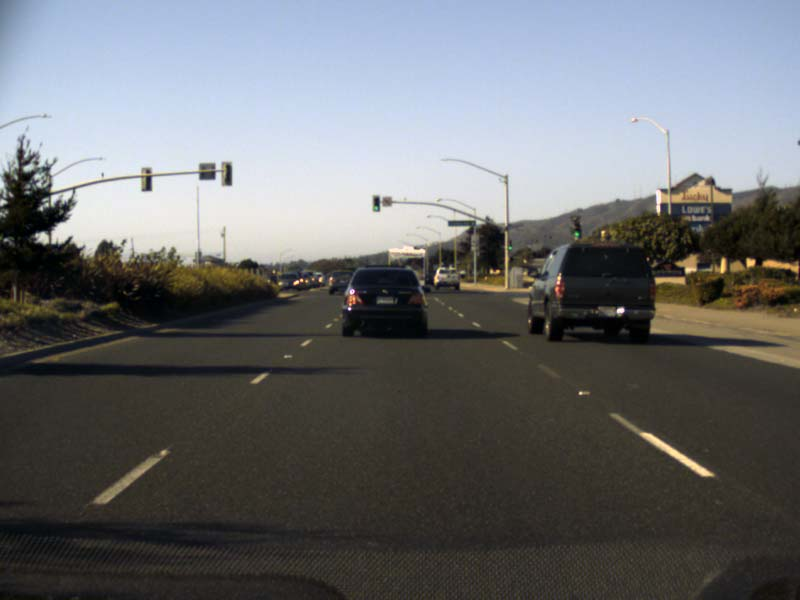Green: (571, 214, 582, 239), (371, 195, 379, 211), (507, 240, 512, 250)
